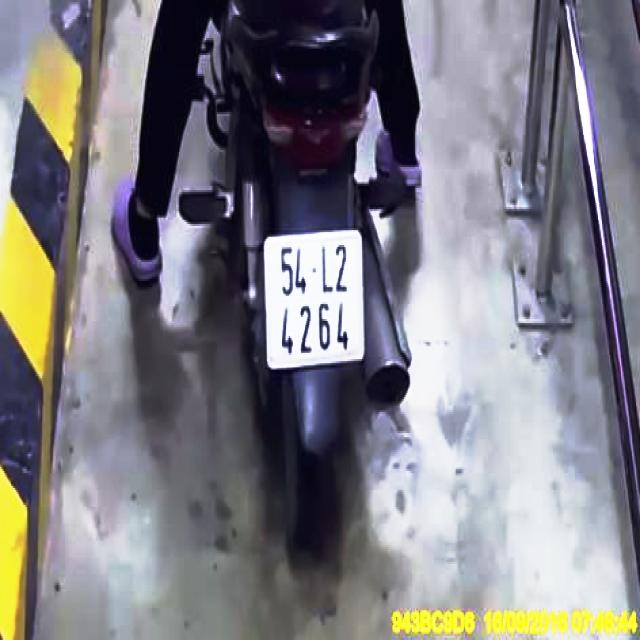license_plate: (267, 237, 363, 369)
